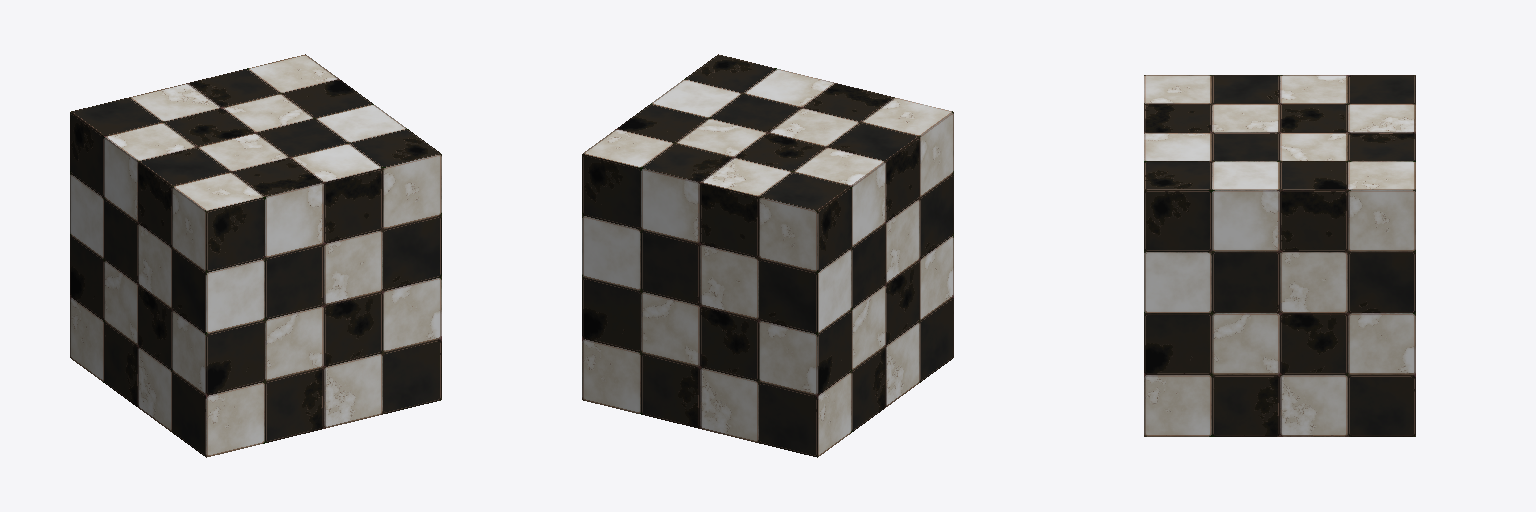
3 renders of one model, left to right at view 1: azimuth 30°, elevation 25°; view 2: azimuth 150°, elevation 25°; view 3: azimuth 270°, elevation 25°, orthographic.
Visible parts, largest first — view 1: Cube; view 2: Cube; view 3: Cube.
Boxes of the visible parts, x1=… form: Cube: x1=70, y1=54, x2=441, y2=457; Cube: x1=582, y1=54, x2=953, y2=457; Cube: x1=1144, y1=75, x2=1415, y2=436.
Bounding box in the file's own units: 2 × 2 × 2.
Materials: 1 (1 with a texture image).